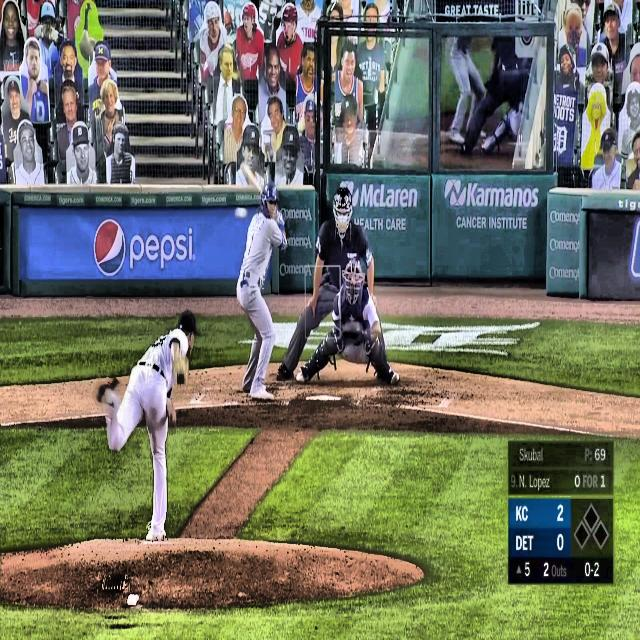baseball: (234, 207, 248, 220)
